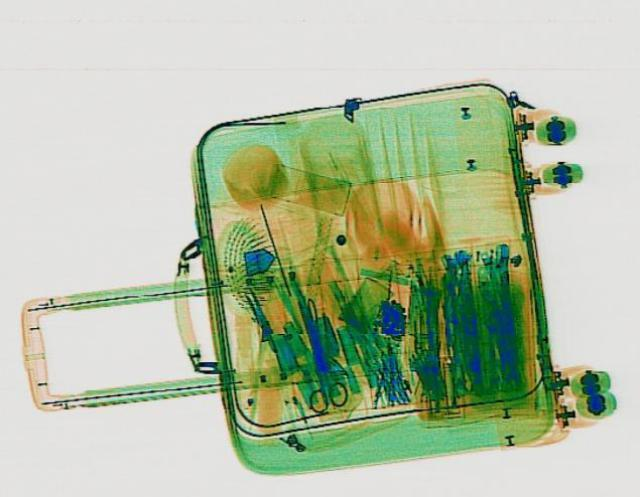Scissors: (280, 306, 352, 411)
